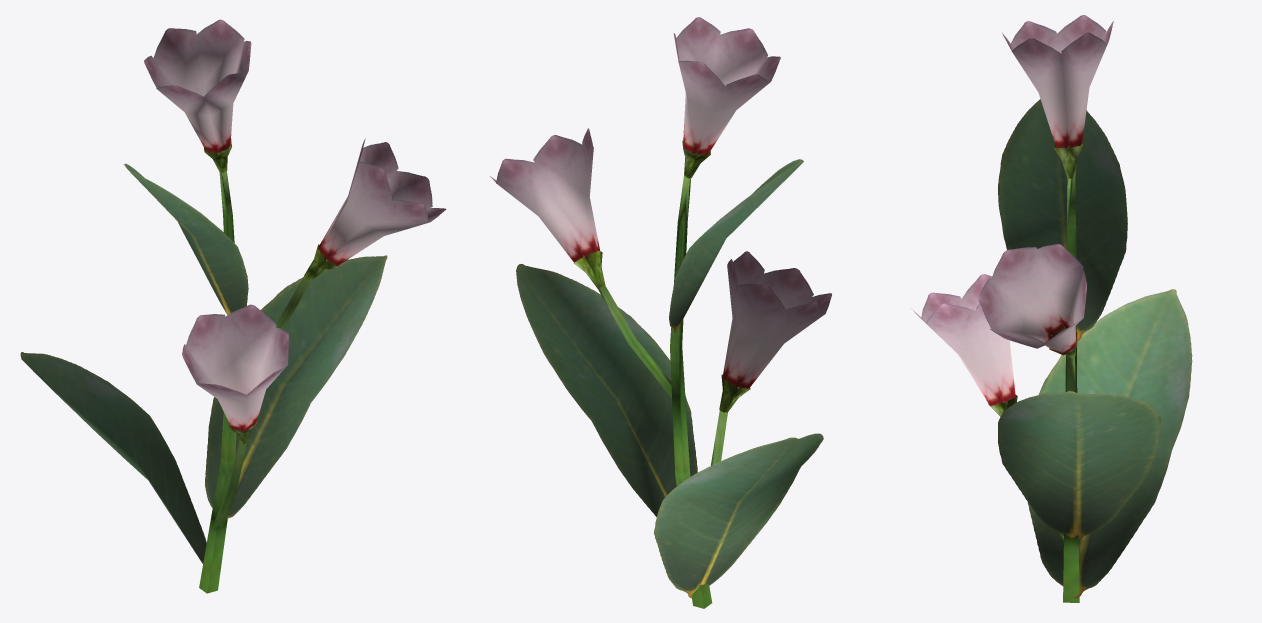
Rendered from bellf1.obj.
3 views of the same model, side by side, from view 1: azimuth 30°, elevation 25°; view 2: azimuth 150°, elevation 25°; view 3: azimuth 270°, elevation 25° (orthographic). The views are drawn at different scales.
Parts seen in each view (by area): view 1: bellflower01; view 2: bellflower01; view 3: bellflower01.
Part boxes in pixels (bbox=[...]): bellflower01: bbox=[20, 19, 446, 593]; bellflower01: bbox=[490, 17, 831, 608]; bellflower01: bbox=[911, 15, 1192, 602].
Size of the model in its own units: 31.01 by 42.17 by 22.52.
Materials: 2 (2 with a texture image).
